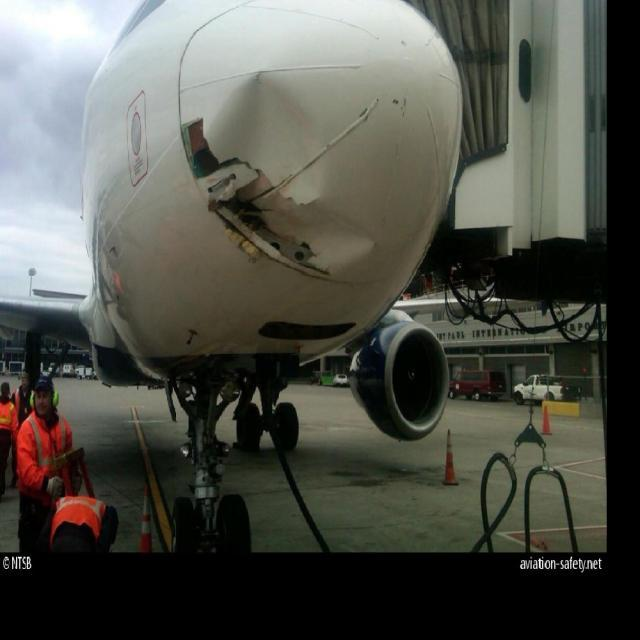dent: (221, 69, 329, 202), (277, 208, 378, 264)
